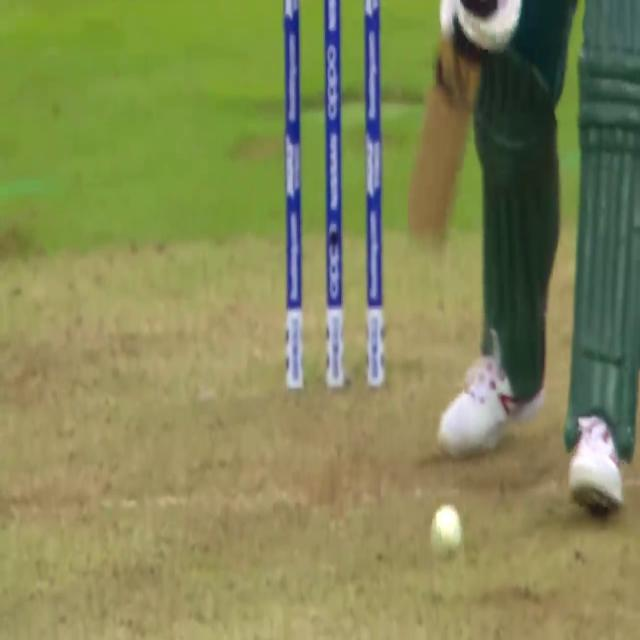ball: (419, 486, 479, 586)
